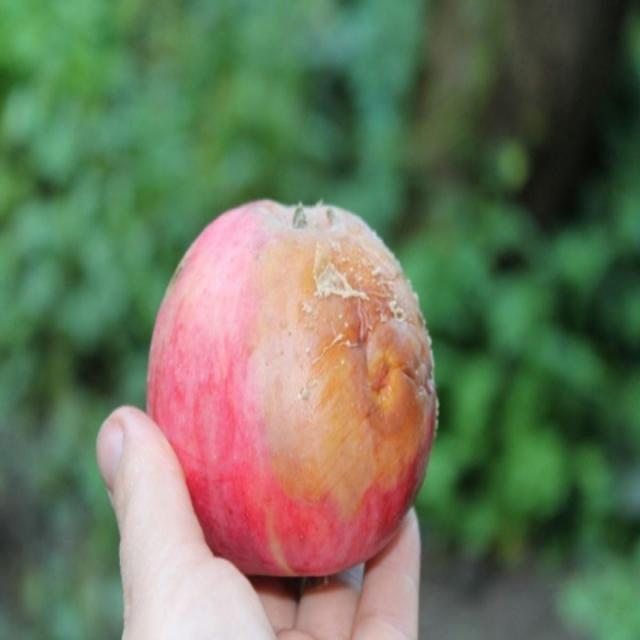Rotten: (130, 212, 450, 566)
